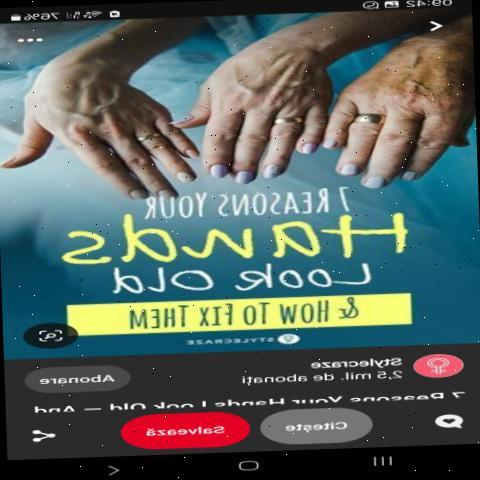Hands: (6, 32, 198, 238), (168, 26, 343, 209), (318, 31, 474, 210)
